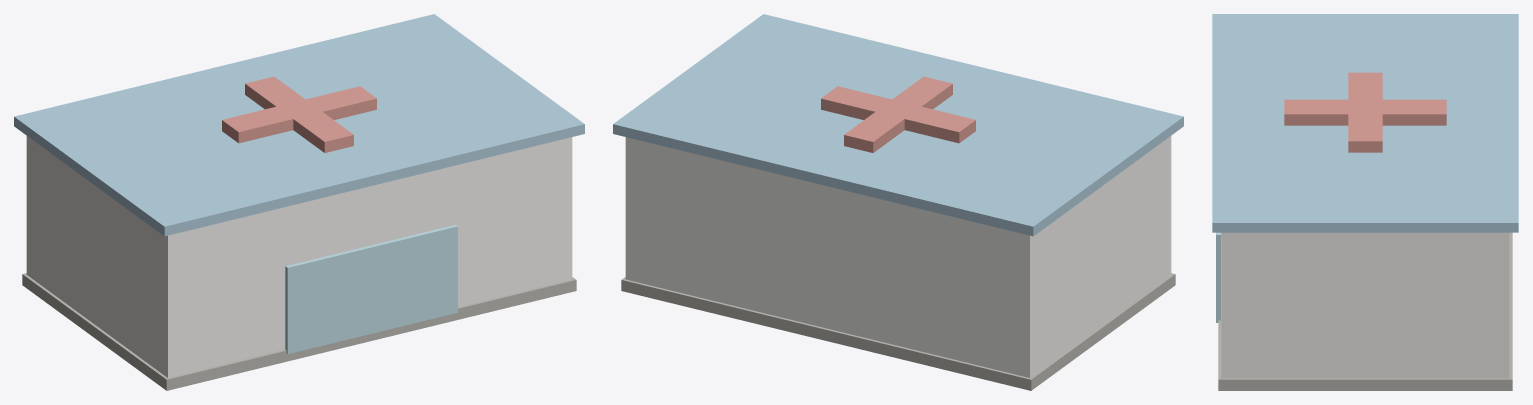
The model's file is hospital_rabbit_hole.glb.
3 renders of one model, left to right at view 1: azimuth 30°, elevation 25°; view 2: azimuth 150°, elevation 25°; view 3: azimuth 270°, elevation 25°, orthographic.
Visible parts, largest first — view 1: p000, p001, p003, p002, p005, p004; view 2: p000, p001, p002, p005, p004; view 3: p001, p000, p002, p004, p005, p003.
Part boxes in pixels (x1,y1,x2,y2): p000: (26,136,572,377); p001: (14,14,584,236); p003: (285,224,457,353); p002: (22,273,576,390); p005: (222,86,376,143); p004: (245,76,353,152); p000: (625,136,1171,377); p001: (613,14,1183,236); p002: (621,273,1175,390); p005: (821,86,975,143); p004: (844,76,952,152); p001: (1212,14,1518,232); p000: (1221,232,1509,378); p002: (1218,232,1512,390); p004: (1284,99,1446,125); p005: (1348,72,1382,152); p003: (1216,232,1220,322).
Size of the model in its own units: 15.8 by 6.42 by 9.8.
